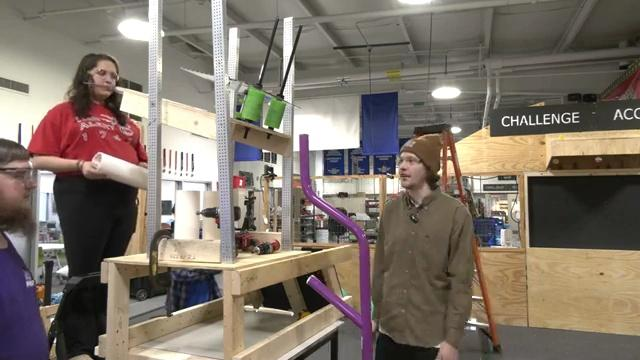CORAL: (90, 150, 148, 190), (174, 189, 199, 239), (202, 191, 220, 239)
